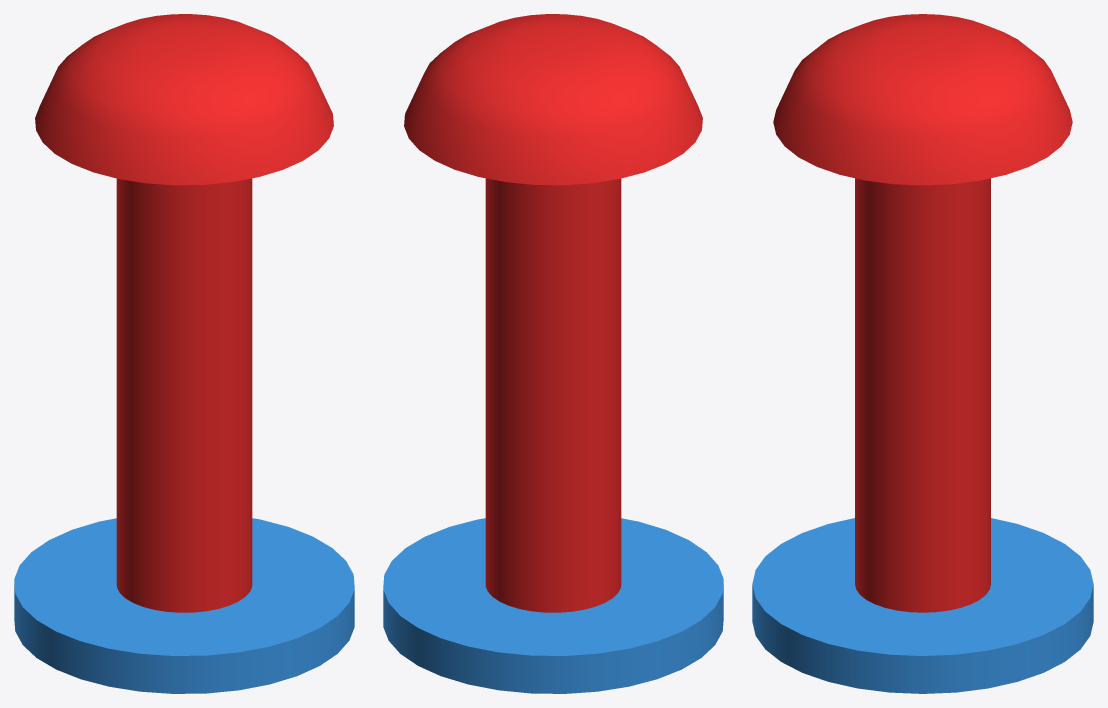
File: obstacle8.fbx
3 renders of one model, left to right at view 1: azimuth 30°, elevation 25°; view 2: azimuth 150°, elevation 25°; view 3: azimuth 270°, elevation 25°, orthographic.
Visible parts, largest first — view 1: Cylinder.001, Cylinder; view 2: Cylinder.001, Cylinder; view 3: Cylinder.001, Cylinder.
Part boxes in pixels (box(x1,y1,x2,y2)): Cylinder.001: box(35, 14, 333, 612); Cylinder: box(14, 518, 354, 693); Cylinder.001: box(404, 14, 702, 612); Cylinder: box(383, 518, 723, 693); Cylinder.001: box(773, 14, 1072, 612); Cylinder: box(752, 518, 1093, 693).
Size of the model in its own units: 200 by 374 by 200.
Materials: 1 (1 with a texture image).
